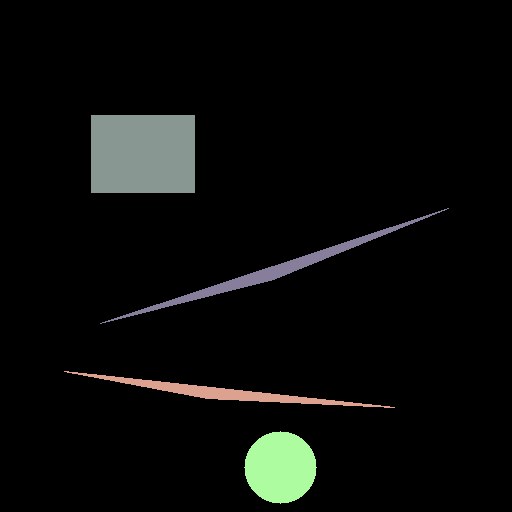circle: (244, 431, 316, 503)
rectangle: (91, 115, 194, 192)
